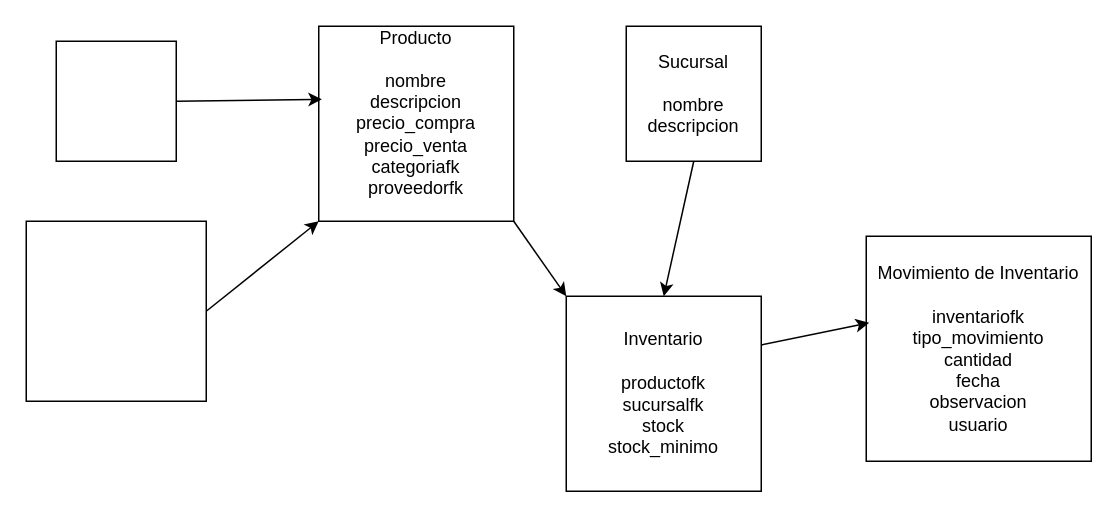
This 1118x518 diagram has some shape labels left out. The box of each missing label's shape, as (x1, y1, x2, y2) in pixels:
Categoria nombre descripcion: (55, 40, 176, 161)
Proveedor nombre telefono email direcccion contacto: (25, 220, 206, 401)
